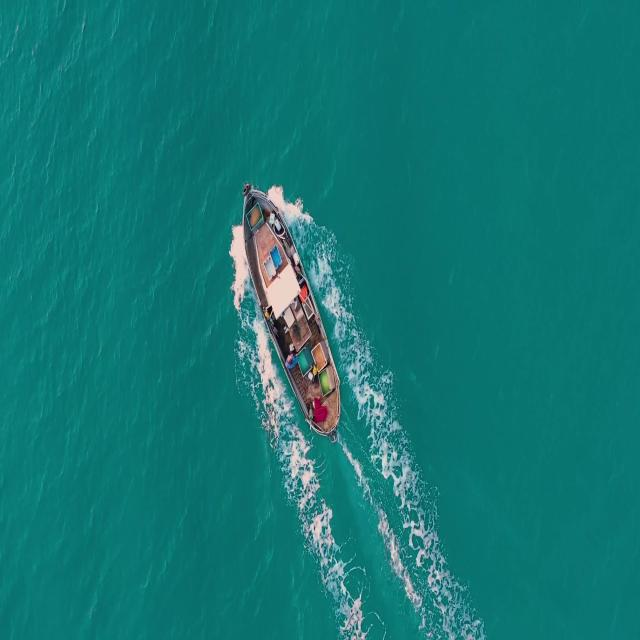ship: (239, 186, 345, 446)
